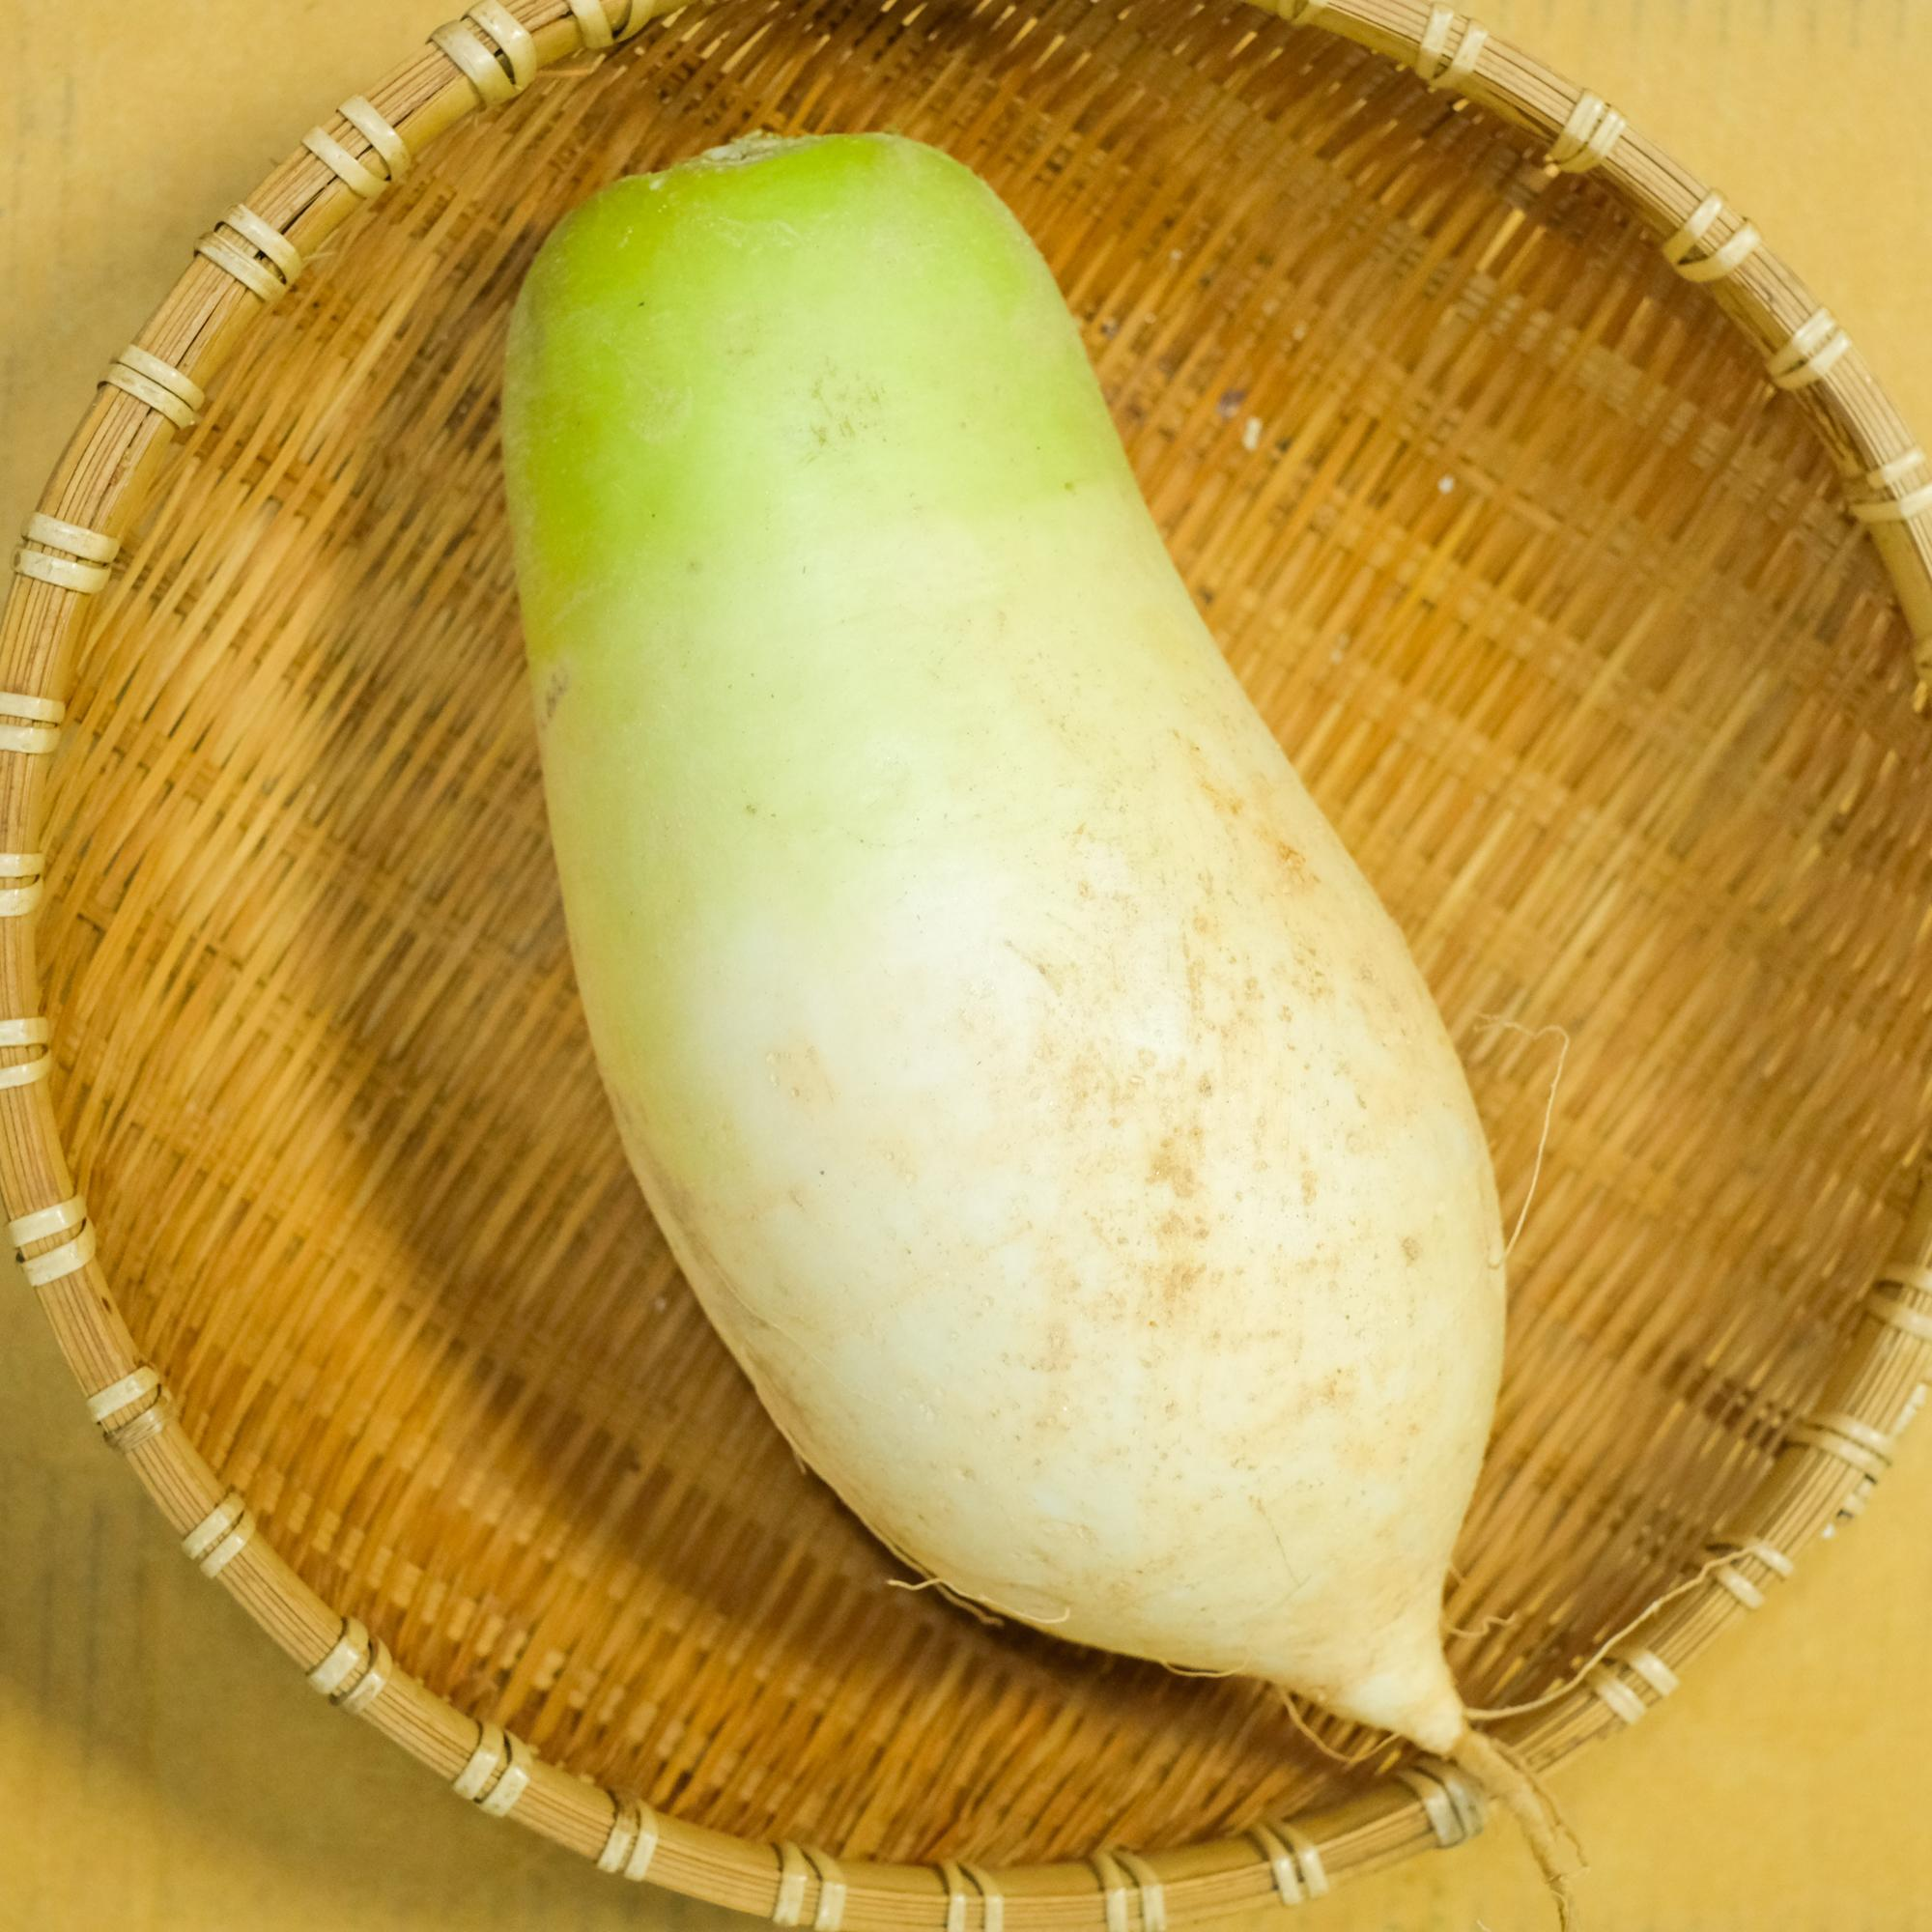radish: (966, 966, 1932, 1932)
